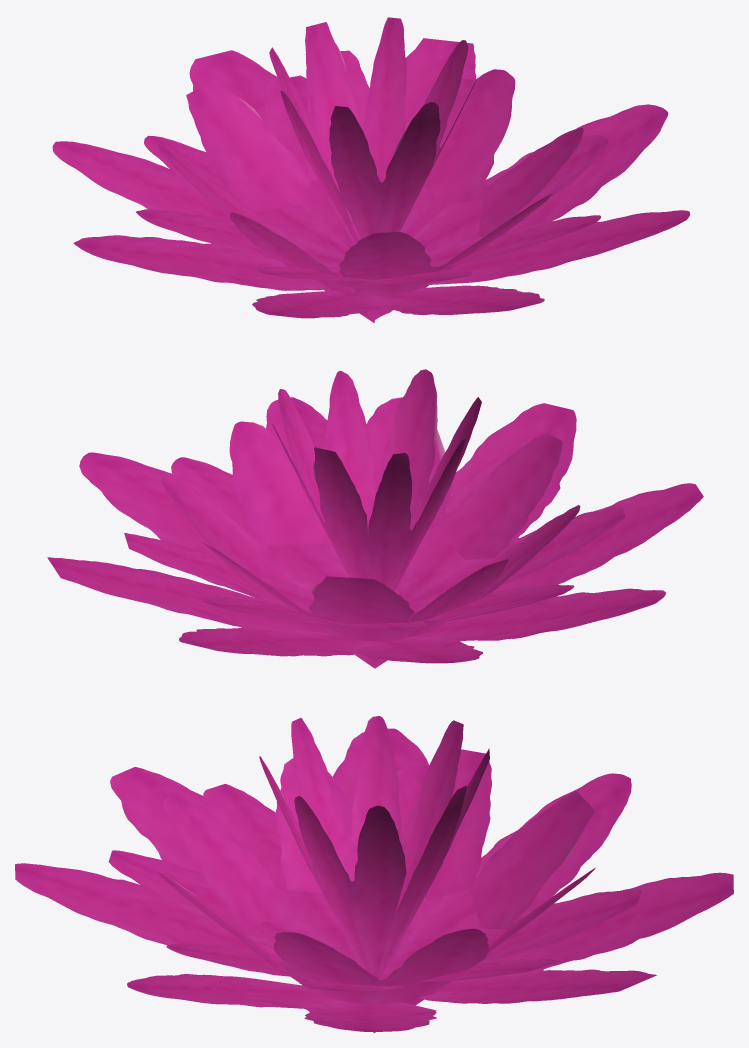
The picture shows the model from 3 angles, top to bottom: view 1: azimuth 30°, elevation 25°; view 2: azimuth 150°, elevation 25°; view 3: azimuth 270°, elevation 25°; orthographic projection. The views are drawn at different scales.
Visible parts, largest first — view 1: waterPlant; view 2: waterPlant; view 3: waterPlant.
Part boxes in pixels (x1,y1,x2,y2): waterPlant: [52, 17, 690, 322]; waterPlant: [47, 369, 703, 668]; waterPlant: [15, 716, 733, 1033].
Size of the model in its own units: 0.3956 by 0.1682 by 0.3956.
1 material, 1 textured.
